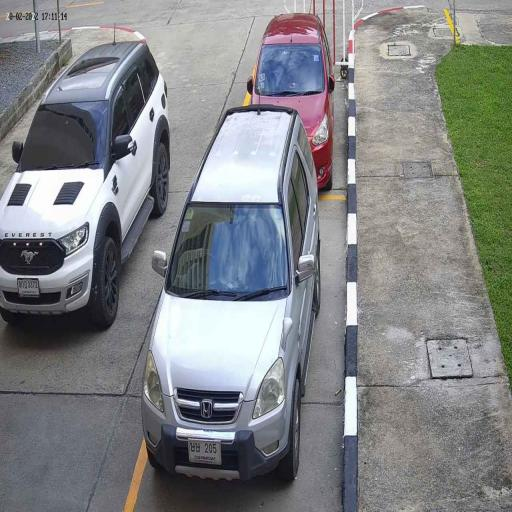car: (140, 104, 322, 487), (0, 40, 172, 328), (248, 11, 335, 195)
